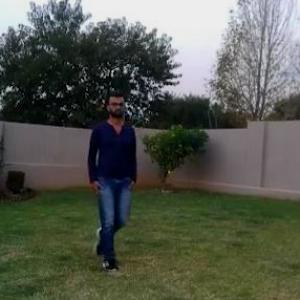follow: (92, 100, 136, 250)
